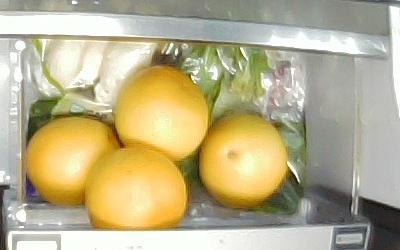grapefruit: (114, 65, 208, 162), (25, 116, 120, 209), (84, 146, 187, 231), (198, 114, 288, 207)
